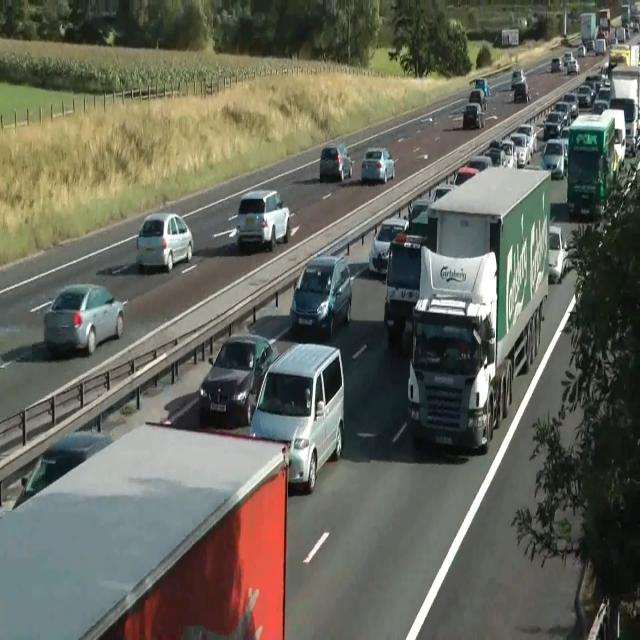bus: (11, 430, 114, 510), (198, 332, 278, 428), (43, 282, 127, 356), (232, 188, 290, 252), (135, 212, 193, 272), (368, 216, 408, 276), (361, 147, 395, 184), (319, 144, 352, 182), (453, 154, 492, 186), (548, 224, 568, 284), (508, 133, 531, 167), (542, 111, 564, 141), (517, 124, 537, 154), (462, 103, 484, 129), (483, 147, 507, 167), (563, 92, 579, 118), (554, 102, 571, 126), (468, 89, 486, 111), (576, 84, 592, 108), (513, 81, 531, 102), (474, 78, 490, 97), (511, 69, 526, 88), (551, 57, 564, 72), (567, 58, 579, 74), (577, 43, 586, 57)
car: (406, 245, 498, 452)
jeep: (249, 342, 345, 494), (289, 252, 352, 338), (384, 234, 424, 335), (541, 138, 567, 178)
minibus: (0, 420, 290, 639), (406, 165, 552, 452), (566, 108, 626, 218), (608, 66, 640, 156), (580, 8, 610, 53), (493, 28, 519, 48)
